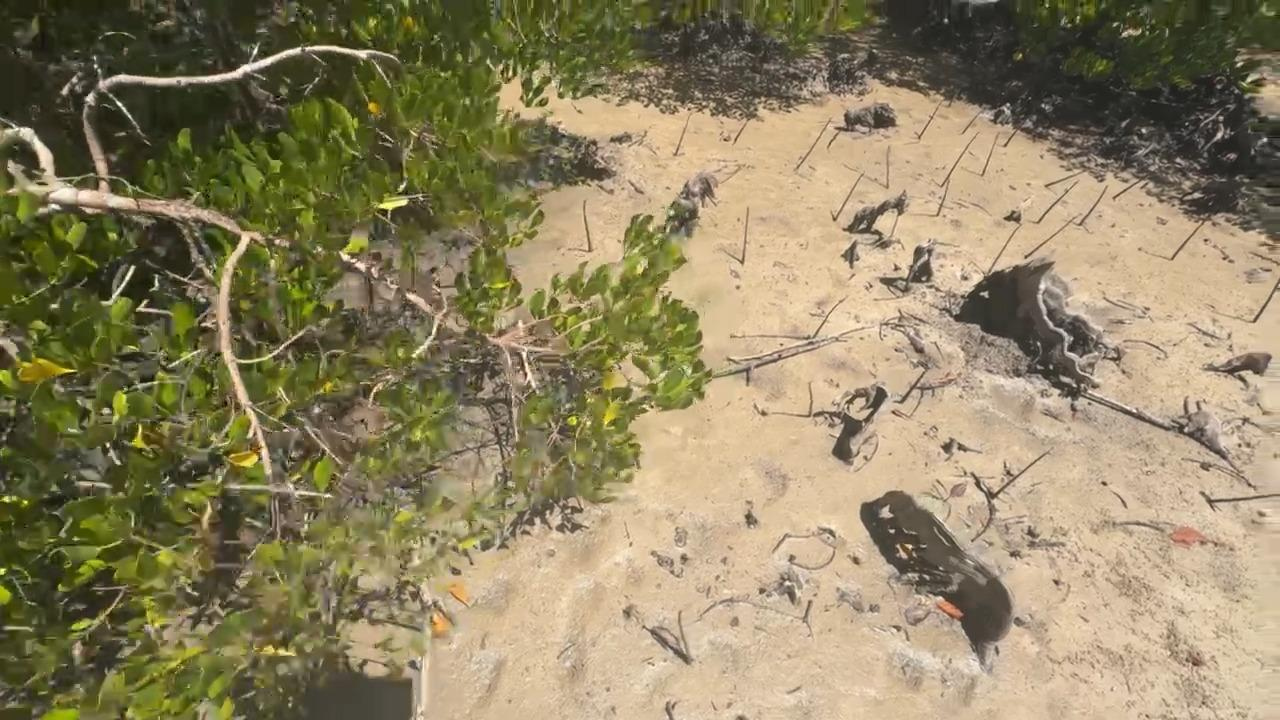Tree: (991, 450, 1048, 498), (1025, 214, 1079, 259), (942, 132, 978, 188), (794, 117, 831, 170), (1171, 214, 1211, 260), (1113, 164, 1165, 199), (1037, 180, 1077, 224), (987, 224, 1022, 274), (833, 173, 864, 220), (814, 295, 846, 337), (1253, 278, 1280, 322), (1080, 186, 1109, 225), (918, 99, 944, 137), (1044, 167, 1090, 187), (677, 609, 693, 665), (901, 369, 925, 406), (981, 133, 999, 177), (1003, 116, 1027, 147), (1207, 493, 1280, 503), (674, 113, 691, 155), (962, 108, 987, 133), (583, 199, 593, 251), (936, 179, 949, 217), (733, 116, 751, 143), (741, 207, 749, 264), (827, 128, 840, 149), (808, 382, 814, 417), (886, 146, 890, 186), (949, 89, 955, 105)
